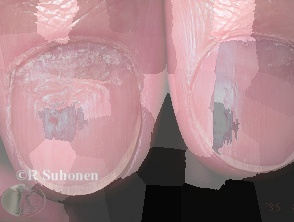Nail_psoriasis: (0, 0, 146, 144), (218, 10, 294, 85)
